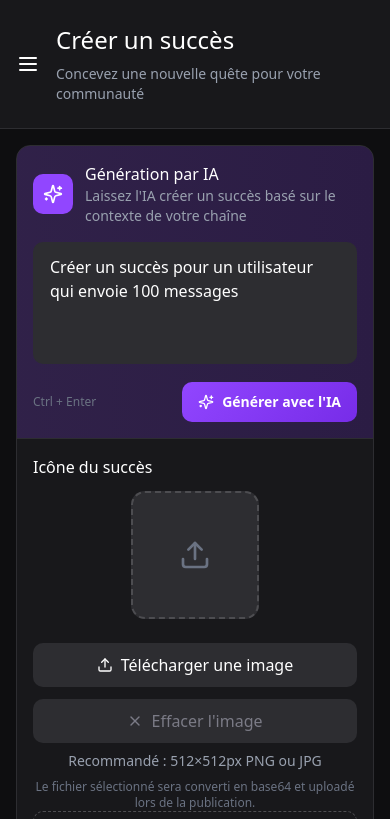
AchievementCreator › should show an error when the AI suggestion request fails
Click the button "Générer avec l'IA": (270, 402) [182,382,357,422]
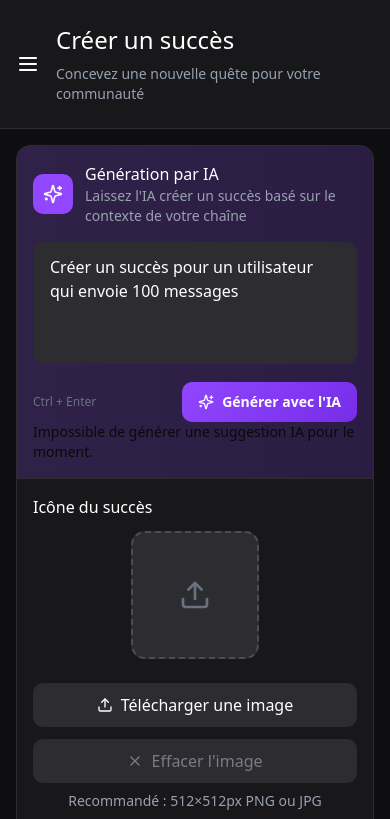
Expected: the text "Impossible de générer une suggestion IA pour le moment." is shown, [33,422,357,462]
